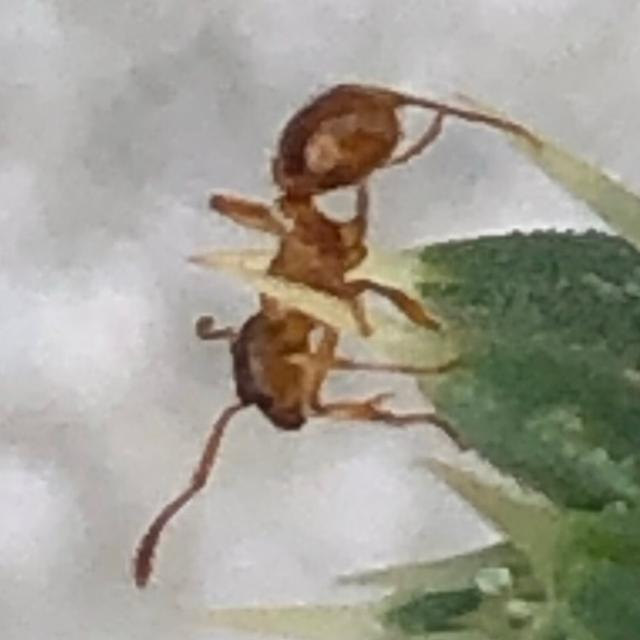Myrmica: (109, 25, 527, 519)
